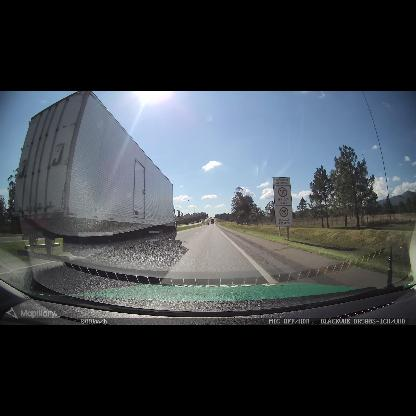I-SA: (272, 177, 291, 185)
R-19: (273, 185, 293, 226)
